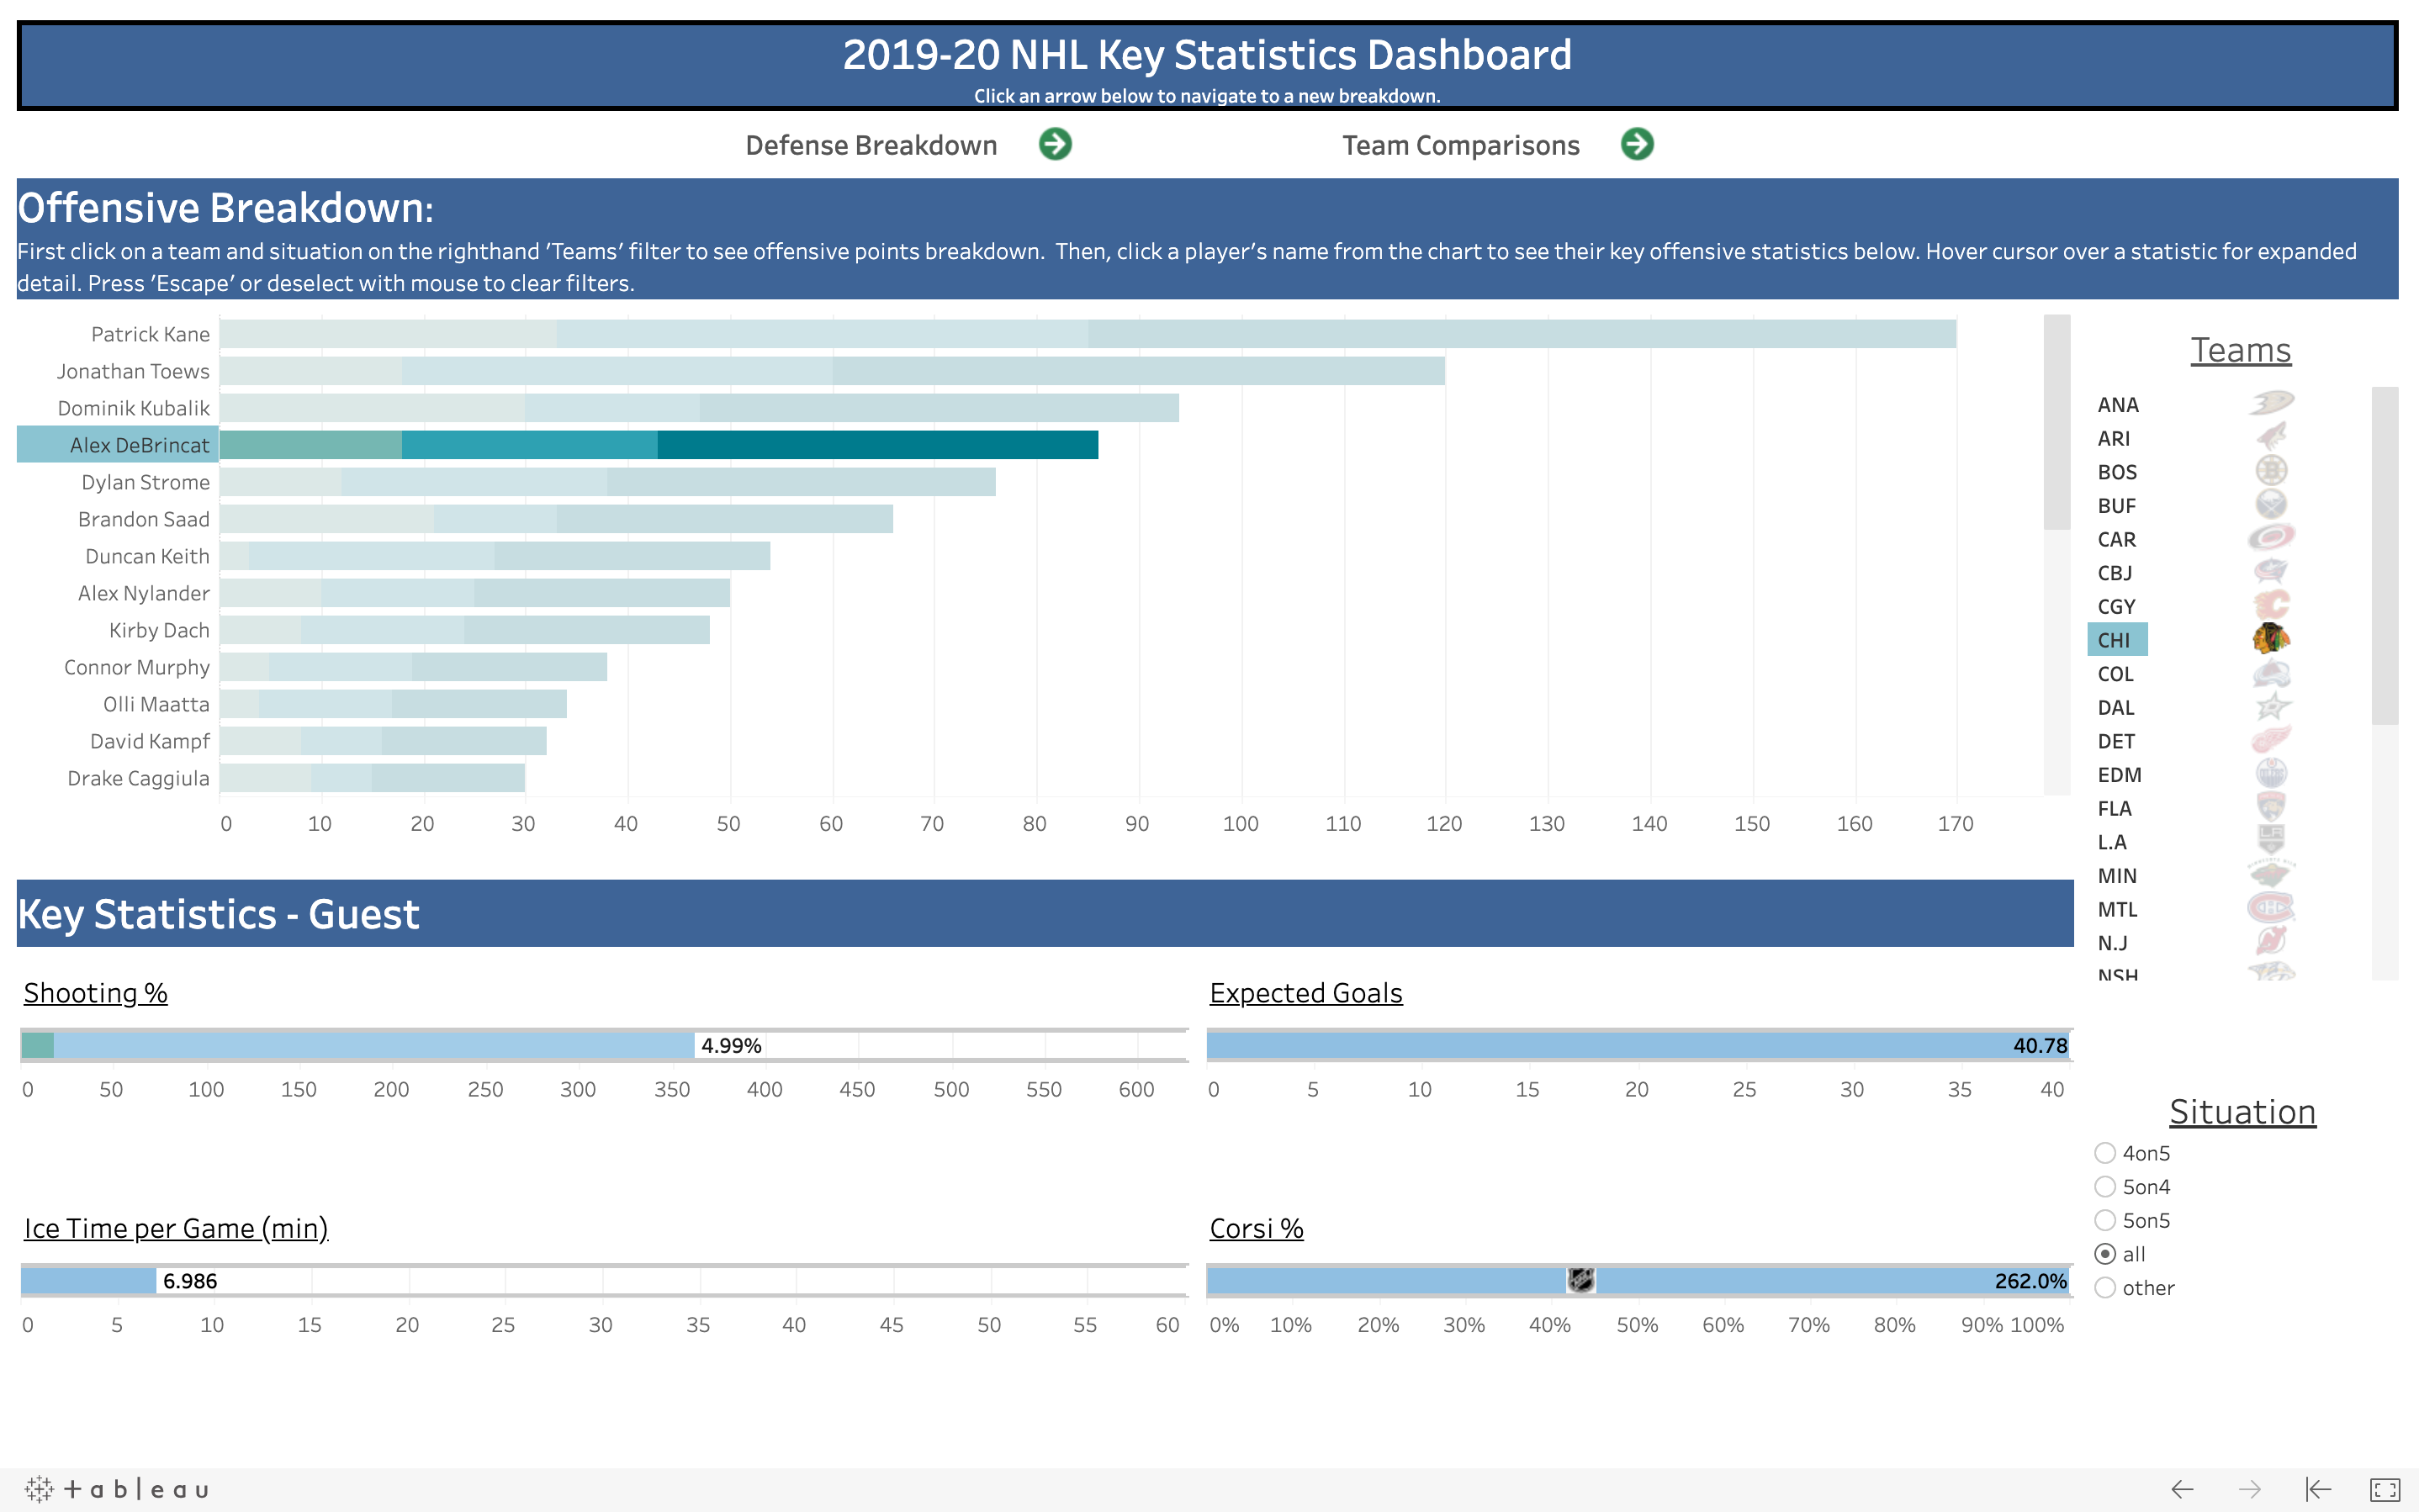

This screenshot's page, from the dashboard's own definition file:
{"tool":"tableau","page":{"name":"Offensive Dash","canvas":[1000,1000],"units":"permille","ordinal":1},"visuals":[{"type":"worksheet","box":[0,0,1000,1000]},{"type":"worksheet","param":"vert","box":[6.5,9.9,987,980.2]},{"type":"worksheet","box":[6.5,9.9,987,76.7]},{"type":"worksheet","param":"vert","box":[6.5,86.6,987,39.6]},{"type":"worksheet","param":"horz","box":[6.5,86.6,987,39.6]},{"type":"worksheet","param":"vert","box":[6.5,86.6,176.4,39.6]},{"type":"worksheet","title":"Defensive Button","mark":"Shape","rows":["Calculation_3551088307139923971"],"box":[182.9,86.6,280.5,39.6]},{"type":"worksheet","title":"Team Comparison Button","mark":"Shape","rows":["Calculation_3551088307140505604"],"box":[463.4,86.6,530.1,39.6]},{"type":"worksheet","param":"vert","box":[6.5,126.2,987,100.2]},{"type":"worksheet","box":[6.5,126.2,987,95.3]},{"type":"worksheet","param":"vert","box":[6.5,226.5,987,763.6]},{"type":"worksheet","box":[6.5,226.5,987,763.6]},{"type":"worksheet","title":"Scoring","mark":"Bar","rows":["name"],"box":[6.5,226.5,853.3,376.3]},{"type":"worksheet","box":[859.8,226.5,133.7,763.6]},{"type":"worksheet","param":"vert","box":[859.8,226.5,133.7,513.4]},{"type":"worksheet","title":"Team Logos","mark":"Shape","rows":["team"],"box":[859.8,226.5,133.7,500]},{"type":"worksheet","box":[6.5,602.8,853.3,53.7]},{"type":"worksheet","box":[6.5,656.5,853.3,156.4]},{"type":"worksheet","param":"horz","box":[6.5,656.5,488.9,156.4]},{"type":"worksheet","title":"Shooting %","mark":"Bar","rows":["name"],"cols":["I_F_shotAttempts","I_F_goals"],"box":[6.5,656.5,488.9,126.2]},{"type":"worksheet","param":"horz","box":[495.4,656.5,364.4,156.4]},{"type":"worksheet","title":"xGoals","mark":"Automatic","rows":["name"],"cols":["I_F_xGoals"],"box":[495.4,656.5,364.4,156.4]},{"type":"worksheet","param":"vert","box":[859.8,739.9,133.7,250.2]},{"type":"worksheet","title":"Scoring","mark":"Bar","rows":["name"],"param":"[federated.19jiyrt0eqtg8y12unap60zdj6nu].[none:situation:nk]","box":[859.8,739.9,133.7,168.3]},{"type":"worksheet","box":[6.5,812.9,853.3,177.2]},{"type":"worksheet","param":"horz","box":[6.5,812.9,488.7,177.2]},{"type":"worksheet","title":"Ice Time","mark":"Bar","rows":["name"],"cols":["Calculation_901705150823550993"],"box":[6.5,812.9,488.7,142.3]},{"type":"worksheet","param":"horz","box":[495.2,812.9,364.6,177.2]},{"type":"worksheet","title":"Corsi","mark":"Shape","rows":["name"],"cols":["Calculation_901705150844186647","onIce_corsiPercentage"],"box":[495.2,812.9,364.6,142.3]}]}

Visuals, with their boxes on the dashboard's canvas, which has no fixed pixel size, in thousandths of its width and height (x1, y1, x2, y2). These are canvas units, not pixel positions in the 2419x1512 screenshot, which may show the page scaled, cropped or inside an application window:
worksheet: select_region(0, 0, 1000, 1000)
worksheet: select_region(6, 10, 994, 990)
worksheet: select_region(6, 10, 994, 87)
worksheet: select_region(6, 87, 994, 126)
worksheet: select_region(6, 87, 994, 126)
worksheet: select_region(6, 87, 183, 126)
"Defensive Button" worksheet (Shape marks): select_region(183, 87, 463, 126)
"Team Comparison Button" worksheet (Shape marks): select_region(463, 87, 994, 126)
worksheet: select_region(6, 126, 994, 226)
worksheet: select_region(6, 126, 994, 222)
worksheet: select_region(6, 226, 994, 990)
worksheet: select_region(6, 226, 994, 990)
"Scoring" worksheet (Bar marks): select_region(6, 226, 860, 603)
worksheet: select_region(860, 226, 994, 990)
worksheet: select_region(860, 226, 994, 740)
"Team Logos" worksheet (Shape marks): select_region(860, 226, 994, 726)
worksheet: select_region(6, 603, 860, 656)
worksheet: select_region(6, 656, 860, 813)
worksheet: select_region(6, 656, 495, 813)
"Shooting %" worksheet (Bar marks): select_region(6, 656, 495, 783)
worksheet: select_region(495, 656, 860, 813)
"xGoals" worksheet: select_region(495, 656, 860, 813)
worksheet: select_region(860, 740, 994, 990)
"Scoring" worksheet (Bar marks): select_region(860, 740, 994, 908)
worksheet: select_region(6, 813, 860, 990)
worksheet: select_region(6, 813, 495, 990)
"Ice Time" worksheet (Bar marks): select_region(6, 813, 495, 955)
worksheet: select_region(495, 813, 860, 990)
"Corsi" worksheet (Shape marks): select_region(495, 813, 860, 955)
